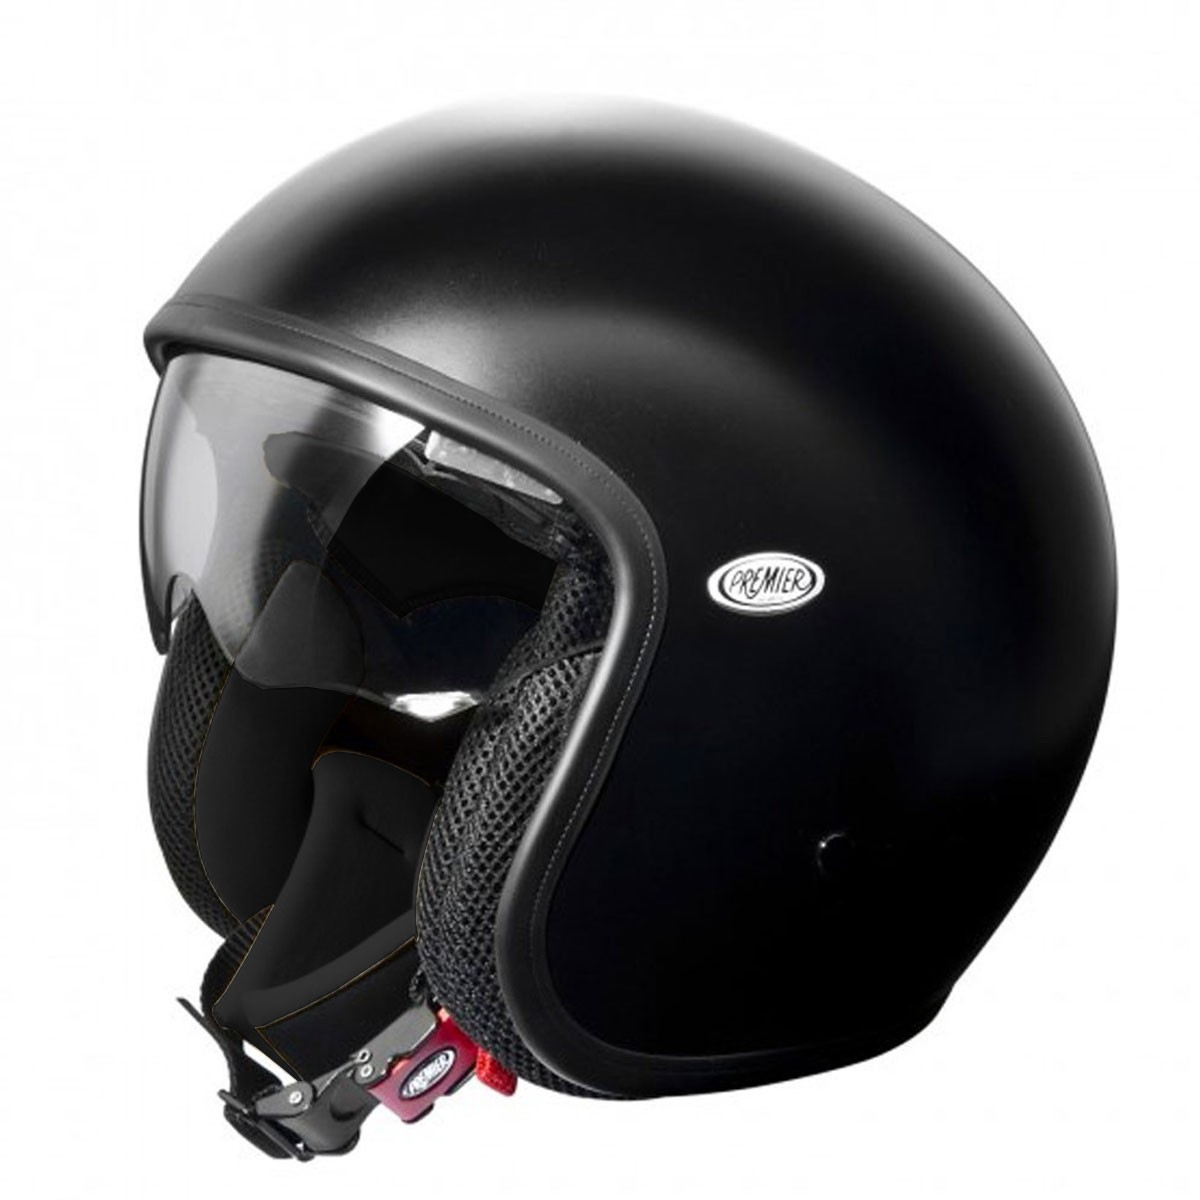with_helmet: (127, 65, 1118, 1120)
